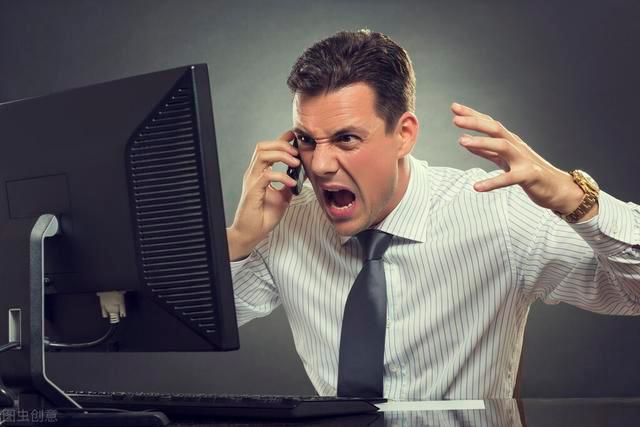calling: (231, 123, 310, 240)
no-phone: (451, 99, 568, 213)
